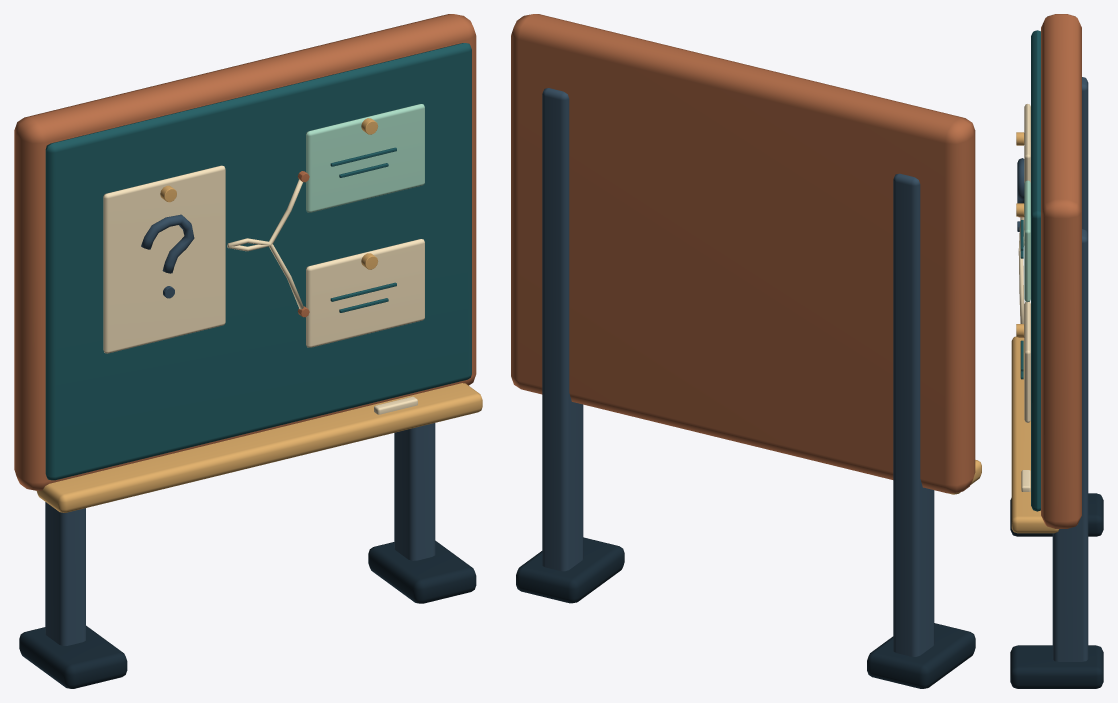
3 views of the same model, side by side, from view 1: azimuth 30°, elevation 25°; view 2: azimuth 150°, elevation 25°; view 3: azimuth 270°, elevation 25° (orthographic). The views are drawn at different scales.
Parts seen in each view (by area): view 1: PR018 workshop assembly; view 2: PR018 workshop assembly; view 3: PR018 workshop assembly.
Part boxes in pixels (<box>): PR018 workshop assembly: <box>14,14,482,688</box>; PR018 workshop assembly: <box>511,14,981,688</box>; PR018 workshop assembly: <box>1010,14,1103,688</box>.
Size of the model in its own units: 1.45 by 1.7 by 0.29.
